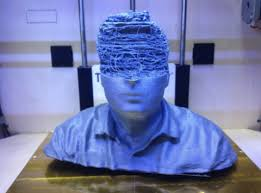fail: (94, 12, 176, 80)
